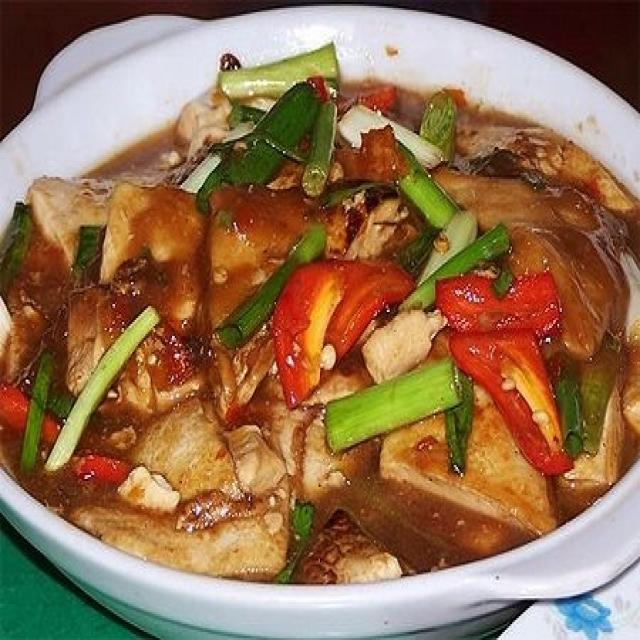豆腐料理: (10, 36, 627, 606)
